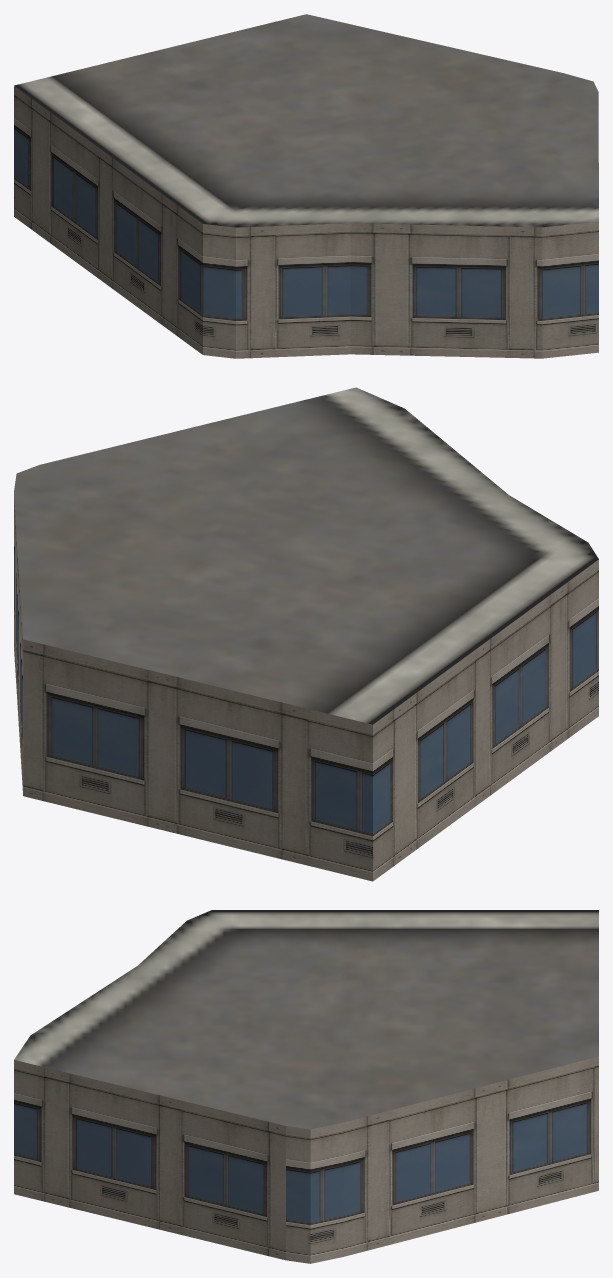
File: building_light_07.glb
3 views of the same model, one above another, from view 1: azimuth 30°, elevation 25°; view 2: azimuth 150°, elevation 25°; view 3: azimuth 270°, elevation 25° (orthographic). The views are drawn at different scales.
Visible parts, largest first — view 1: buildings/saxarba/building_light/building_light_07; view 2: buildings/saxarba/building_light/building_light_07; view 3: buildings/saxarba/building_light/building_light_07.
Part boxes in pixels (x1,y1,x2,y2): buildings/saxarba/building_light/building_light_07: (14,14,598,358); buildings/saxarba/building_light/building_light_07: (14,387,598,881); buildings/saxarba/building_light/building_light_07: (14,910,598,1263).
Bounding box in the file's own units: 63 × 18 × 71.
